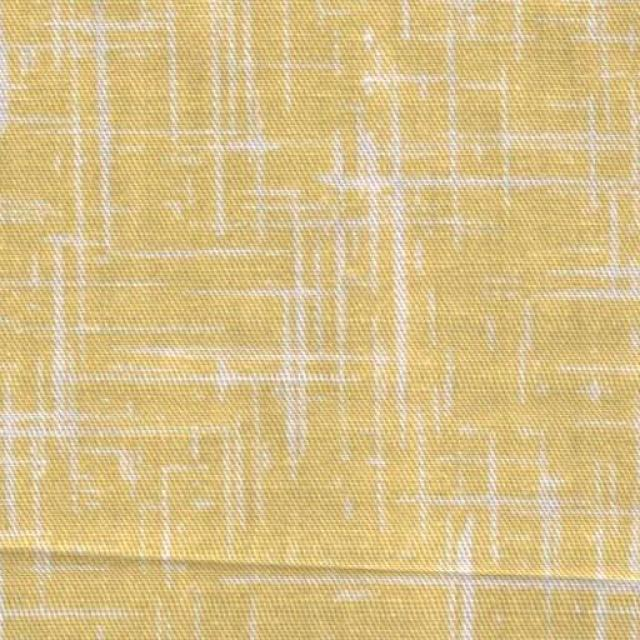broken_yarn: (0, 539, 639, 595)
